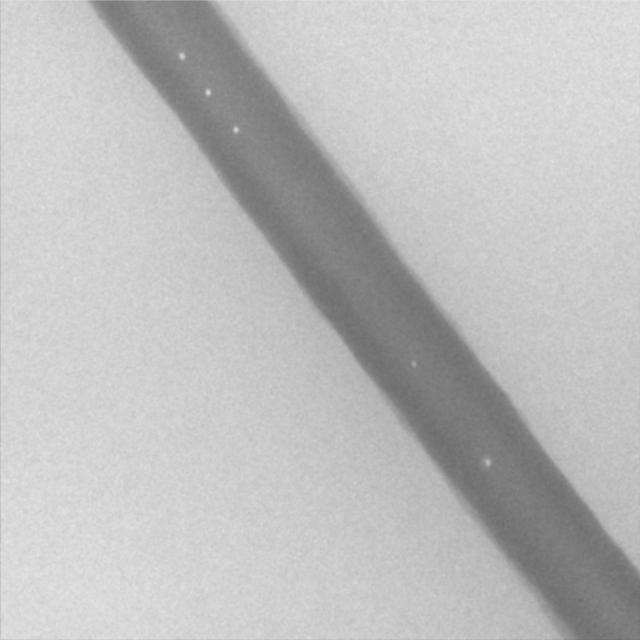air hole: (480, 455, 492, 468), (201, 86, 211, 98), (177, 48, 185, 61), (409, 357, 417, 369), (231, 123, 239, 134)
